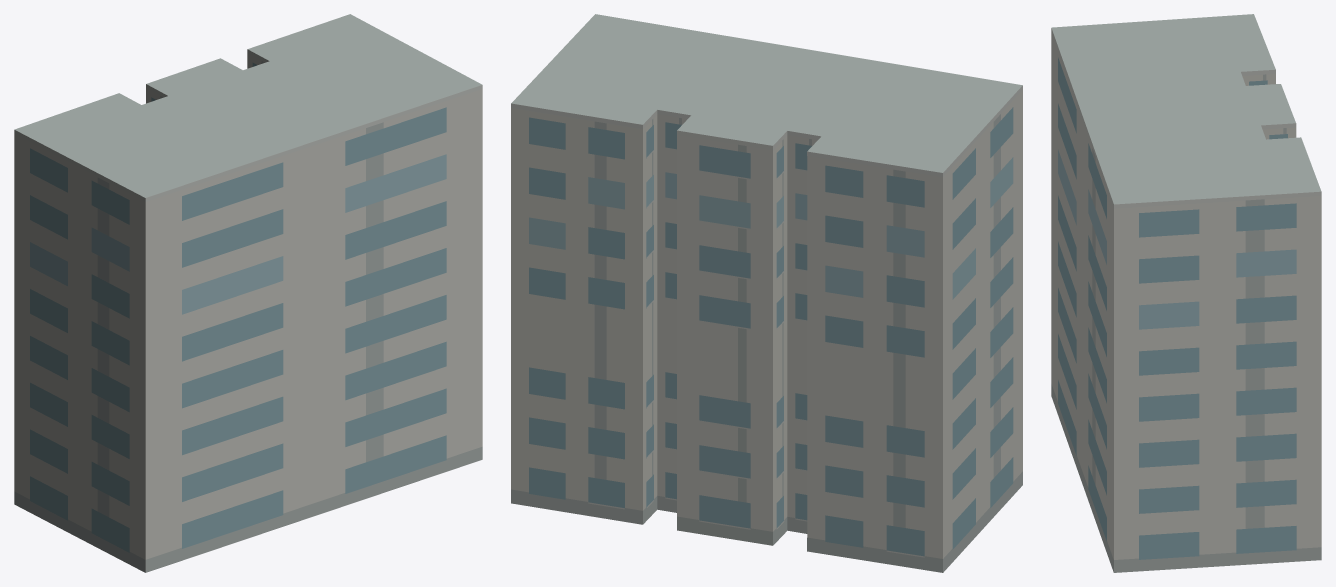
Rendered from survey-upis-32699372.glb.
3 renders of one model, left to right at view 1: azimuth 30°, elevation 25°; view 2: azimuth 150°, elevation 25°; view 3: azimuth 270°, elevation 25°, orthographic. The views are drawn at different scales.
Parts seen in each view (by area): view 1: survey-upis-32699372.tmp; view 2: survey-upis-32699372.tmp; view 3: survey-upis-32699372.tmp.
Boxes of the visible parts, x1=… form: survey-upis-32699372.tmp: x1=14, y1=14, x2=482, y2=572; survey-upis-32699372.tmp: x1=511, y1=14, x2=1022, y2=572; survey-upis-32699372.tmp: x1=1051, y1=14, x2=1321, y2=572.
Size of the model in its own units: 24.29 by 21.9 by 14.57.
